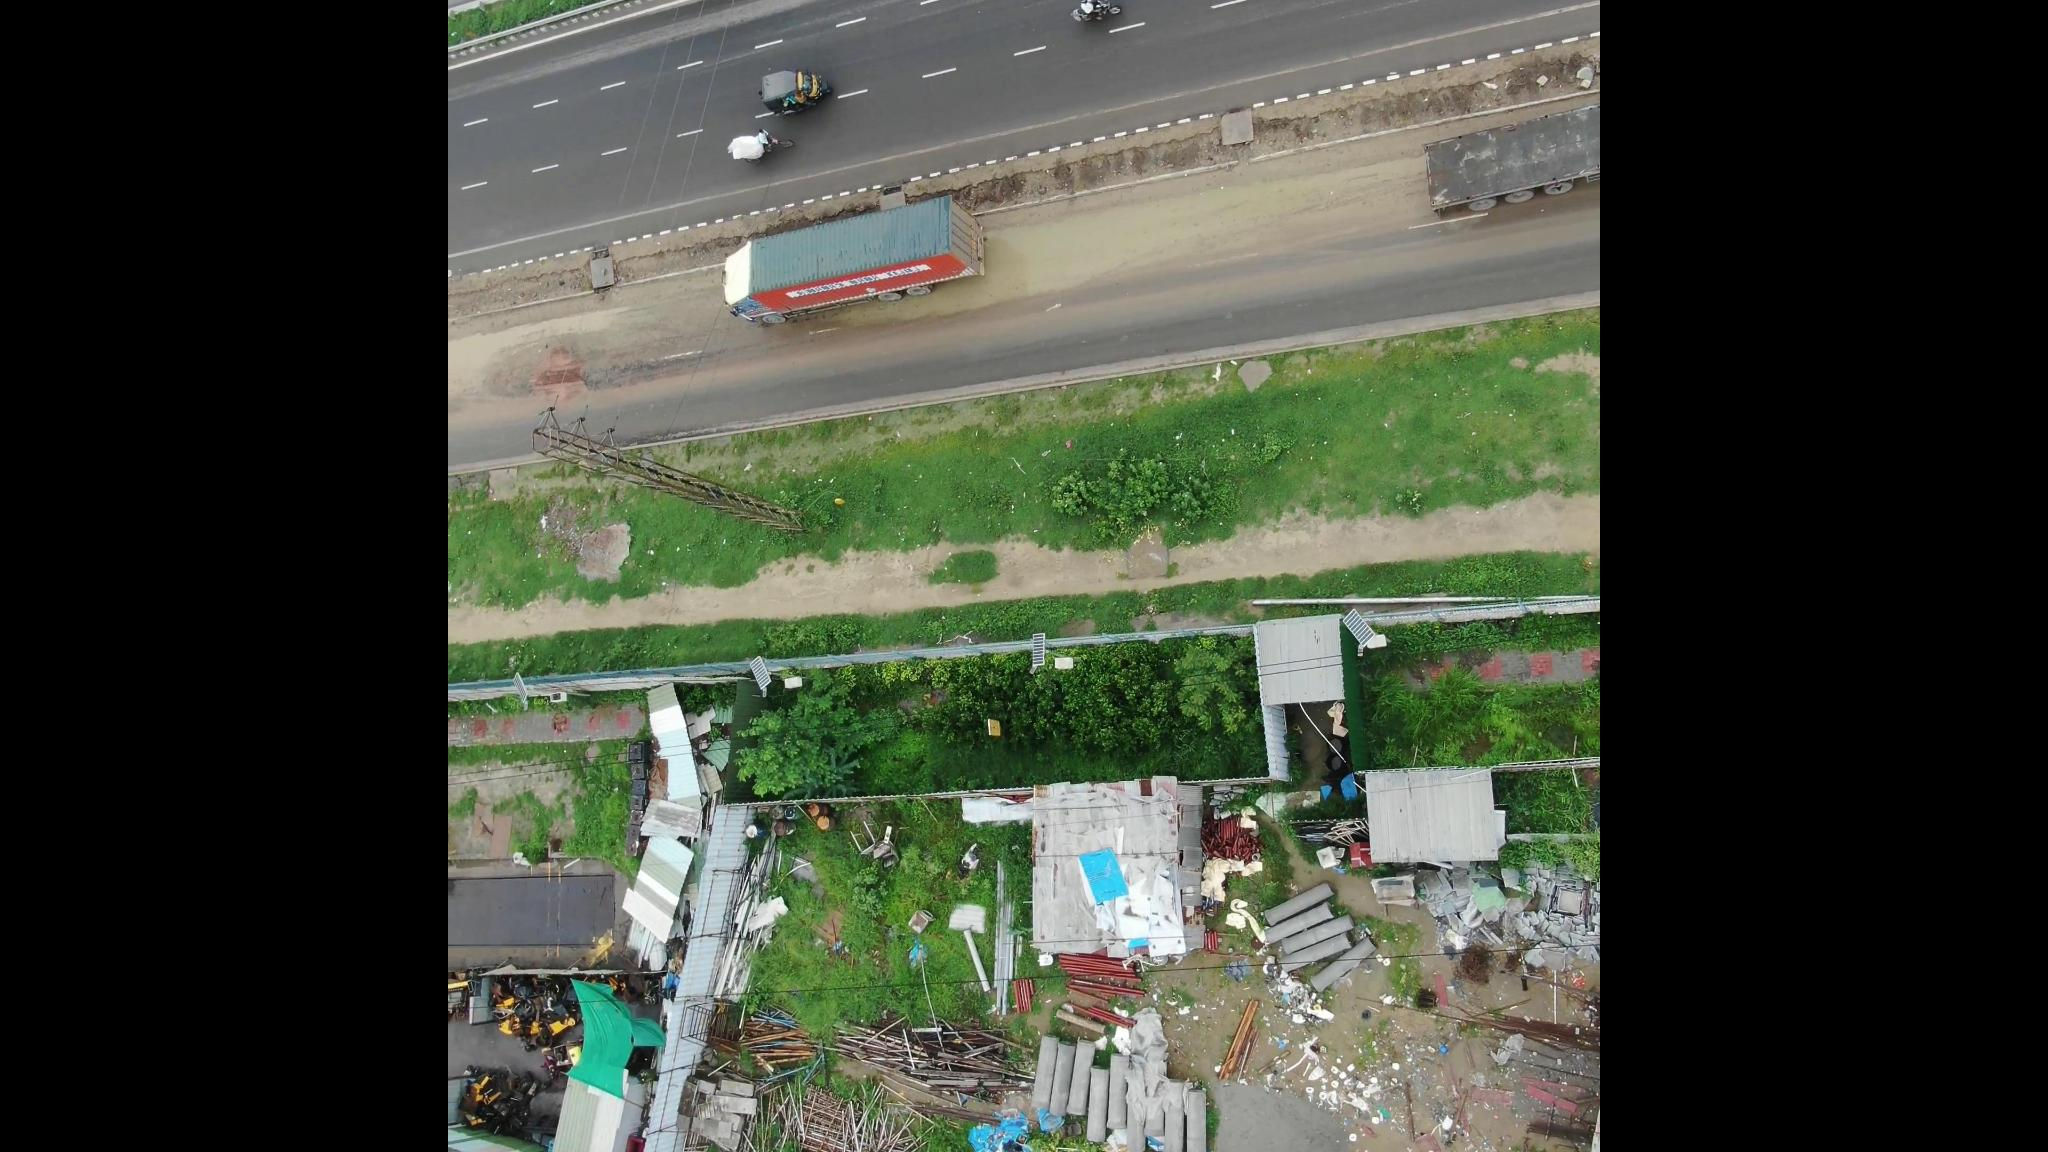Muddy_road: (1077, 159, 1390, 273), (454, 293, 734, 402)
